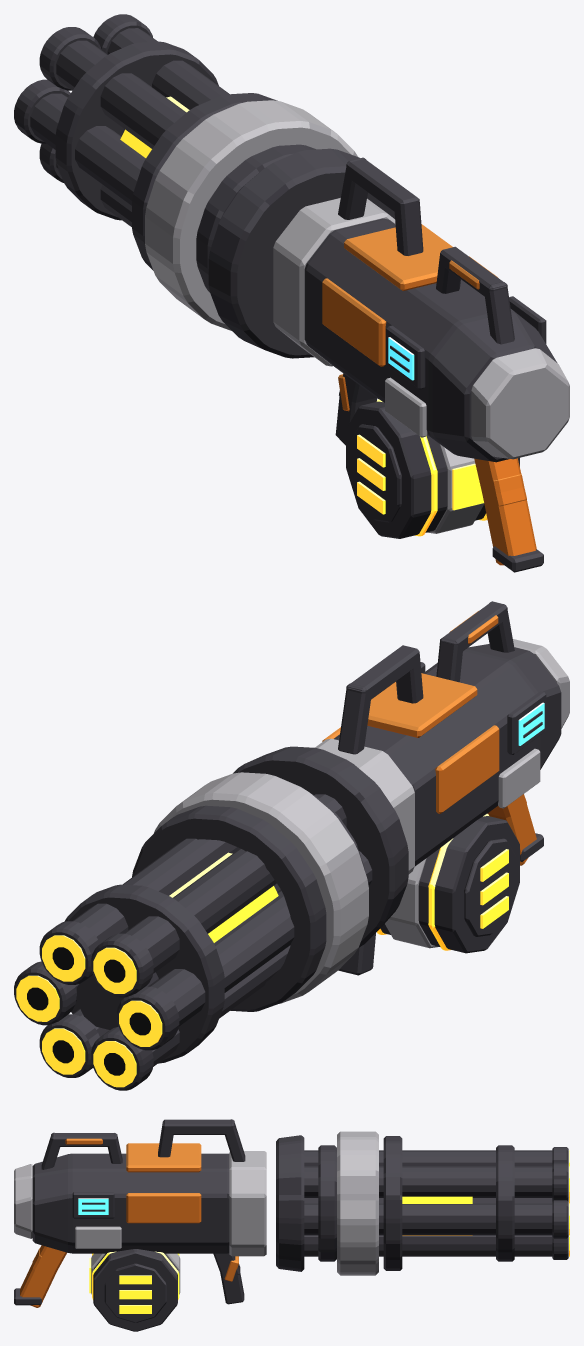
File: minigun.glb
3 renders of one model, top to bottom at view 1: azimuth 30°, elevation 25°; view 2: azimuth 150°, elevation 25°; view 3: azimuth 270°, elevation 25°, orthographic. The views are drawn at different scales.
Visible parts, largest first — view 1: Minigun, Barrels; view 2: Minigun, Barrels; view 3: Minigun, Barrels.
Part boxes in pixels (x1=…): Minigun: x1=132, y1=93, x2=569, y2=572; Barrels: x1=14, y1=14, x2=316, y2=292; Minigun: x1=132, y1=601, x2=569, y2=1011; Barrels: x1=14, y1=793, x2=372, y2=1090; Minigun: x1=14, y1=1119, x2=402, y2=1331; Barrels: x1=304, y1=1145, x2=569, y2=1261.
Size of the model in its own units: 0.3053 by 0.4628 by 1.19.
